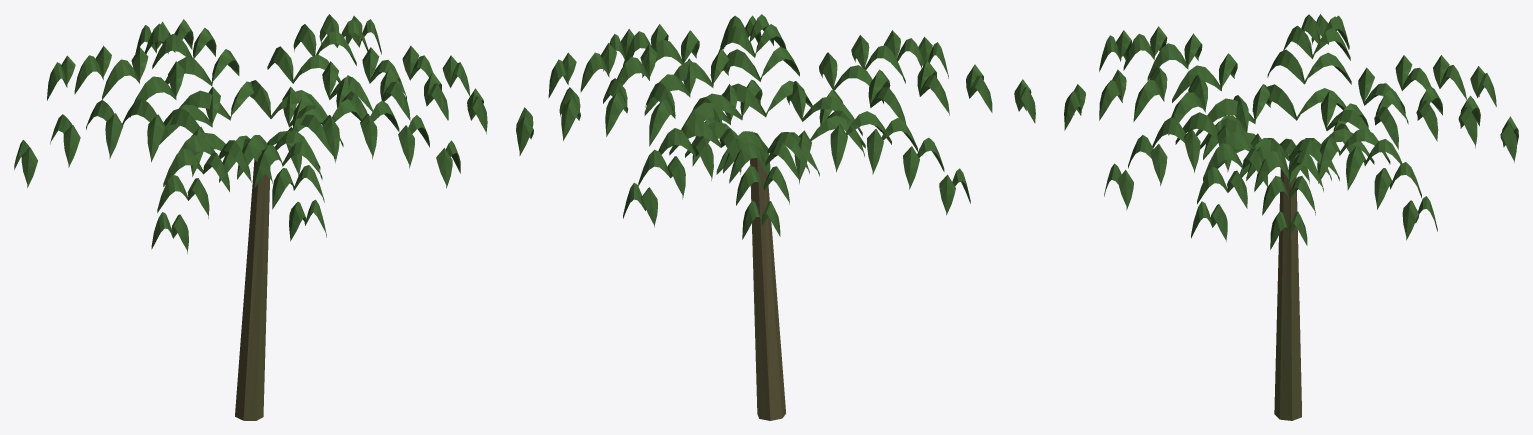
The model's file is jungle-tree-fern.glb.
The picture shows the model from 3 angles, left to right: view 1: azimuth 30°, elevation 25°; view 2: azimuth 150°, elevation 25°; view 3: azimuth 270°, elevation 25°; orthographic projection.
Parts seen in each view (by area): view 1: Древовидный папоротник; view 2: Древовидный папоротник; view 3: Древовидный папоротник.
Boxes of the visible parts, left/top/right/bottom form: Древовидный папоротник: left=14, top=14, right=487, bottom=420; Древовидный папоротник: left=516, top=14, right=1035, bottom=420; Древовидный папоротник: left=1064, top=14, right=1518, bottom=420.
Size of the model in its own units: 4.65 by 3.47 by 4.37.
